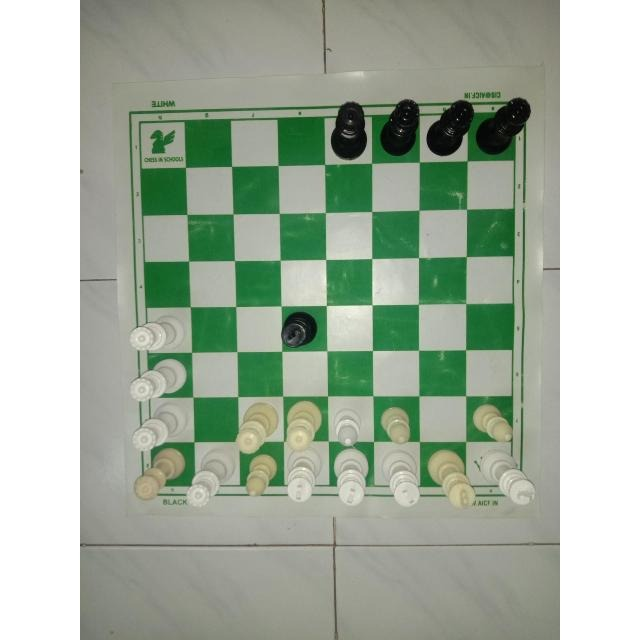black-king: (276, 311, 319, 351)
black-queen: (476, 95, 532, 159), (425, 97, 472, 159), (380, 96, 420, 160), (328, 101, 369, 161)
white-bishop: (239, 451, 278, 499), (471, 402, 517, 441), (378, 402, 412, 448), (328, 405, 364, 448)
white-king: (474, 447, 538, 511), (423, 448, 475, 517), (380, 448, 424, 510), (331, 449, 374, 511), (284, 447, 326, 505)
white-queen: (130, 445, 188, 501), (128, 400, 190, 452), (186, 450, 236, 509), (124, 356, 187, 400), (234, 400, 280, 452), (283, 398, 323, 452), (126, 316, 184, 352)
